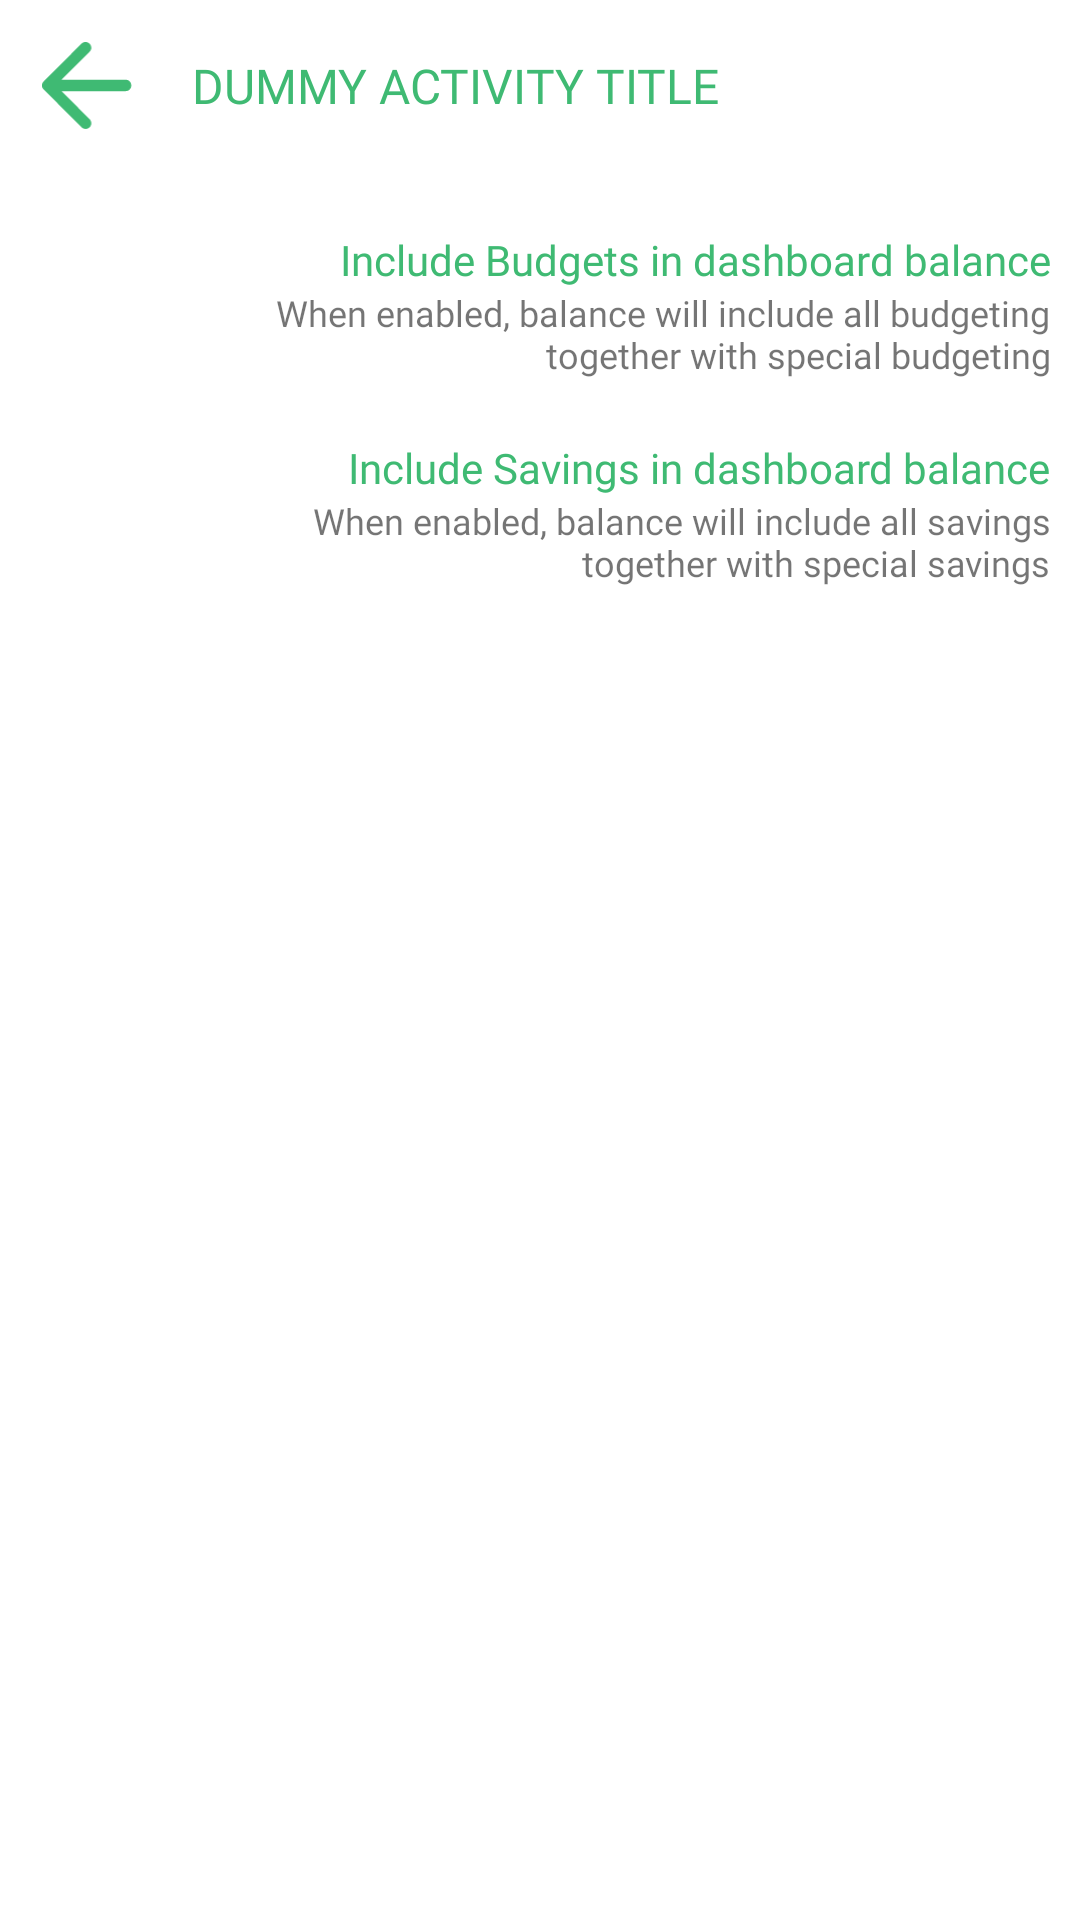

Screen size 1080×1920. Icon name, then its center in pixels as point (x, y):
back: point (87, 85)
